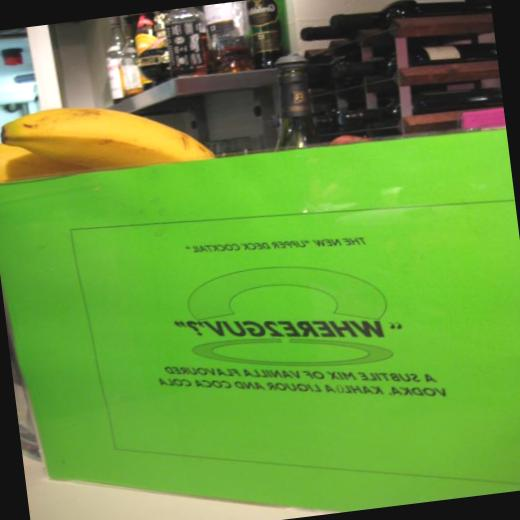Banana: (0, 75, 223, 182), (0, 130, 84, 181)
